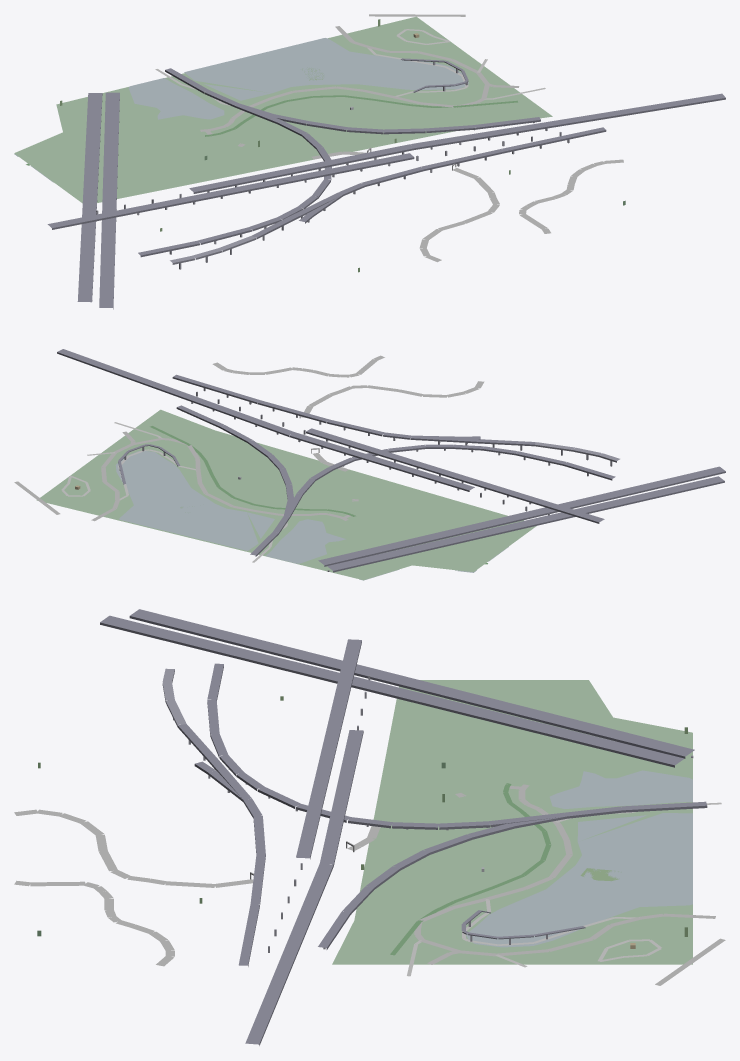
The picture shows the model from 3 angles, top to bottom: view 1: azimuth 30°, elevation 25°; view 2: azimuth 150°, elevation 25°; view 3: azimuth 270°, elevation 25°; orthographic projection. The views are drawn at different scales.
Size of the model in its own units: 781 by 11.1 by 528.
